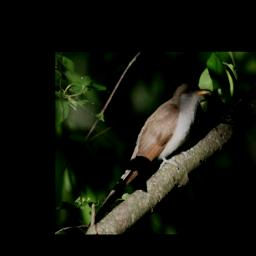Cuckoo: (89, 82, 212, 227)
